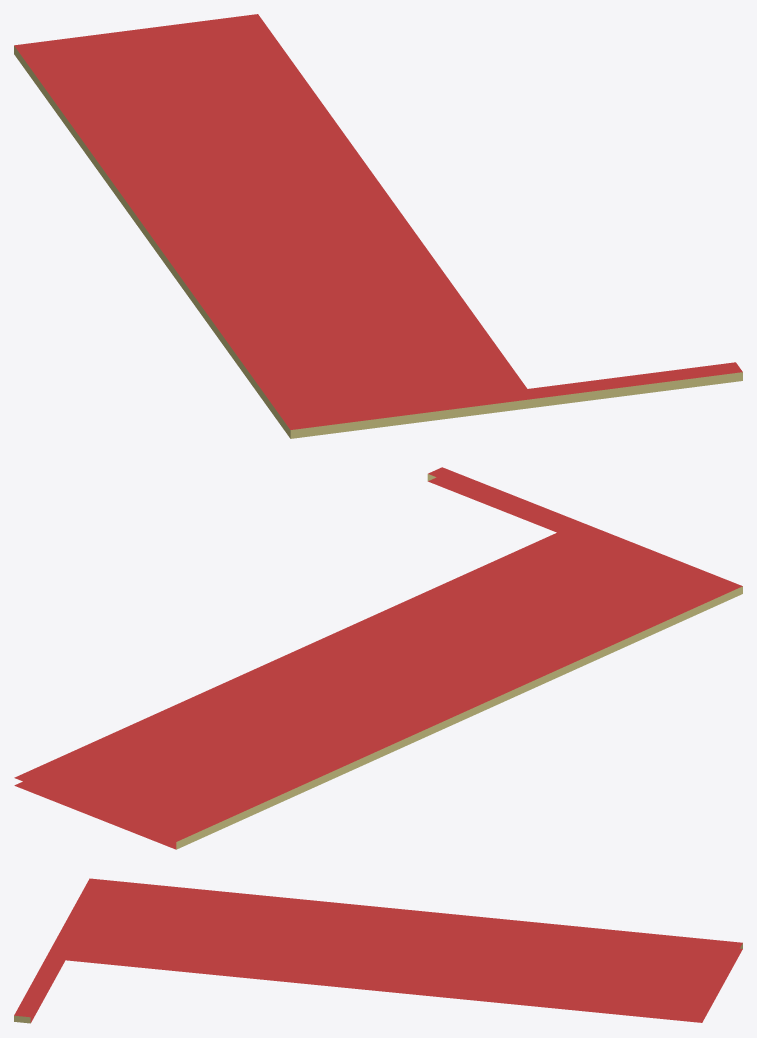
3 views of the same model, one above another, from view 1: azimuth 30°, elevation 25°; view 2: azimuth 150°, elevation 25°; view 3: azimuth 270°, elevation 25° (orthographic). The views are drawn at different scales.
Size of the model in its own units: 4.78 by 10.61 by 0.1.
